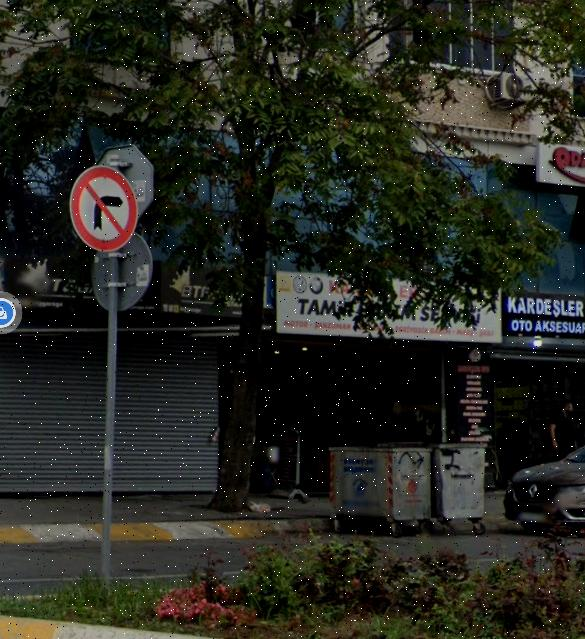rightturnsareforbidden: (69, 167, 139, 249)
